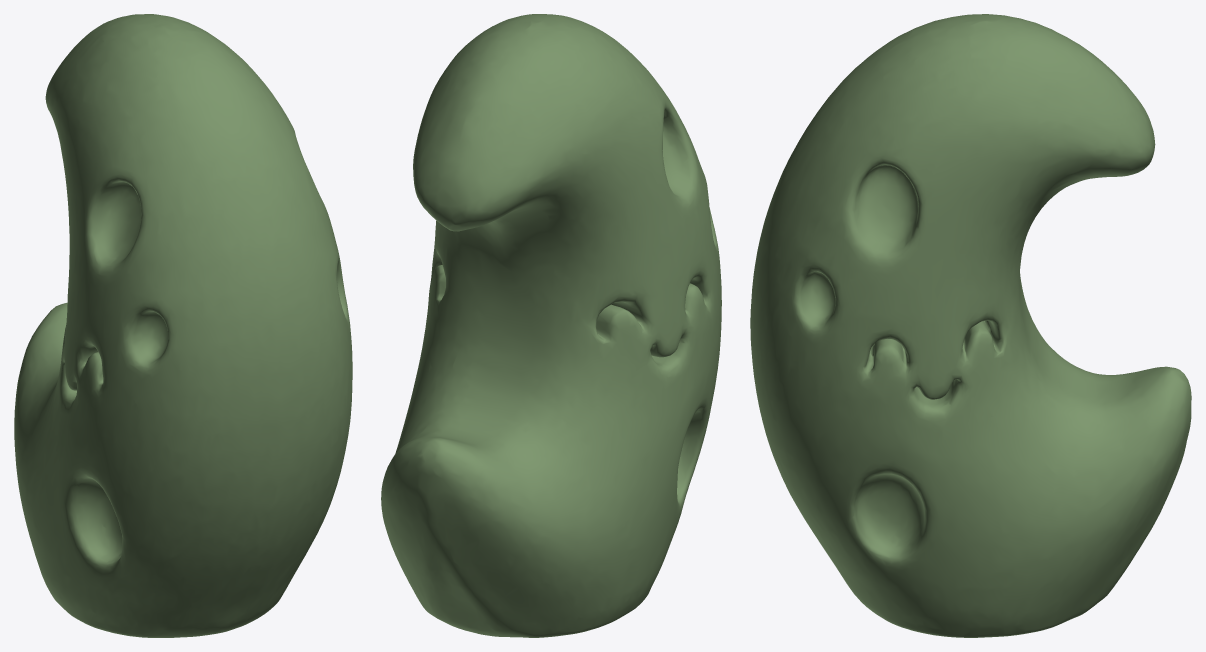
Rendered from crescent-moon.glb.
3 renders of one model, left to right at view 1: azimuth 30°, elevation 25°; view 2: azimuth 150°, elevation 25°; view 3: azimuth 270°, elevation 25°, orthographic.
Parts seen in each view (by area): view 1: tripo_printable_source; view 2: tripo_printable_source; view 3: tripo_printable_source.
Part boxes in pixels (left/top/right/bottom): tripo_printable_source: left=14, top=14, right=352, bottom=637; tripo_printable_source: left=381, top=14, right=721, bottom=637; tripo_printable_source: left=750, top=14, right=1191, bottom=637.
Bounding box in the file's own units: 46.4 × 100 × 70.
